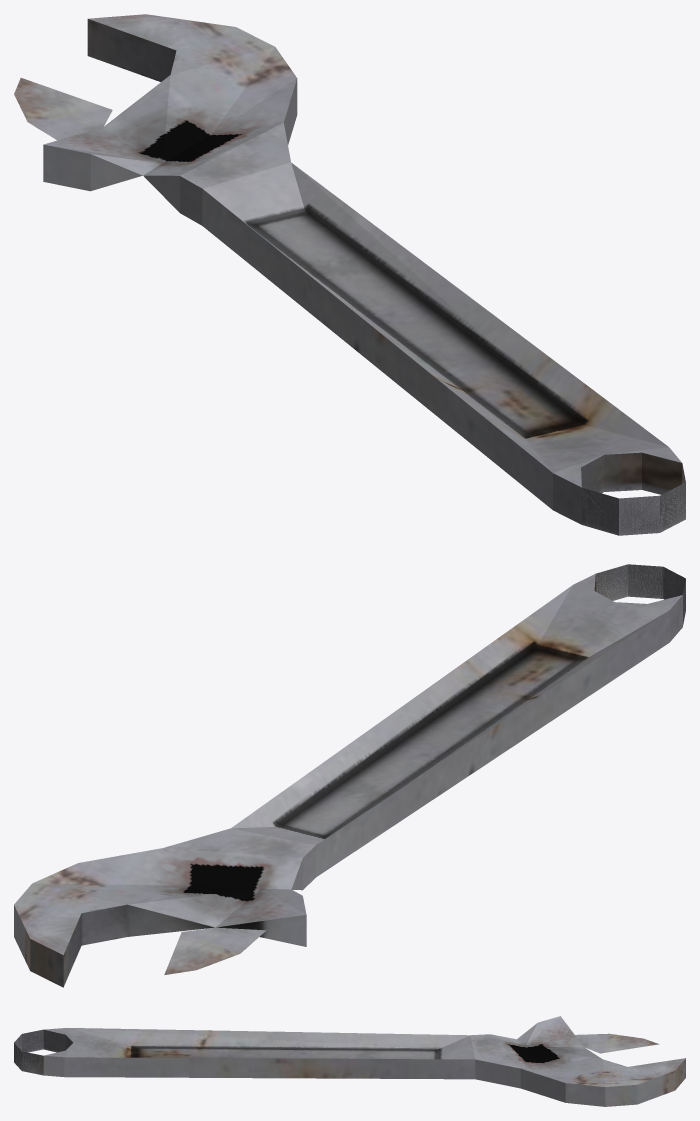
Rendered from M_Home_Garden_Wrench.fbx.
The picture shows the model from 3 angles, top to bottom: view 1: azimuth 30°, elevation 25°; view 2: azimuth 150°, elevation 25°; view 3: azimuth 270°, elevation 25°; orthographic projection. The views are drawn at different scales.
Parts seen in each view (by area): view 1: M_Home_Garden_Wrench; view 2: M_Home_Garden_Wrench; view 3: M_Home_Garden_Wrench.
Boxes of the visible parts, box(x1,y1,x2,y2) form: M_Home_Garden_Wrench: box(14, 14, 685, 535); M_Home_Garden_Wrench: box(14, 564, 685, 987); M_Home_Garden_Wrench: box(14, 1016, 685, 1106).
Bounding box in the file's own units: 10.63 × 1.38 × 42.44.
